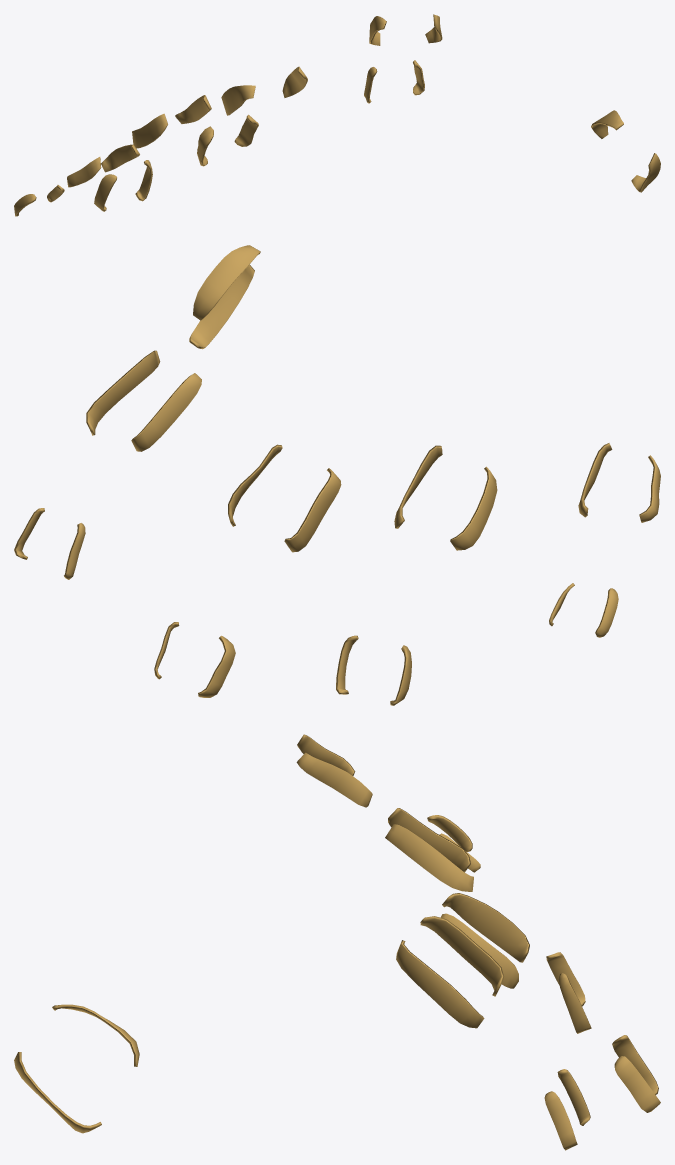
The picture shows the model from 3 angles, top to bottom: view 1: azimuth 30°, elevation 25°; view 2: azimuth 150°, elevation 25°; view 3: azimuth 270°, elevation 25°; orthographic projection. The views are drawn at different scales.
Parts seen in each view (by area): view 1: 左侧手指间关节侧副韧带; view 2: 左侧手指间关节侧副韧带; view 3: 左侧手指间关节侧副韧带.
Part boxes in pixels (x1,y1,x2,y2): 左侧手指间关节侧副韧带: (14,14,660,216); 左侧手指间关节侧副韧带: (14,245,660,705); 左侧手指间关节侧副韧带: (14,734,660,1150).
Bounding box in the file's own units: 0.1545 × 0.0561 × 0.1353.
